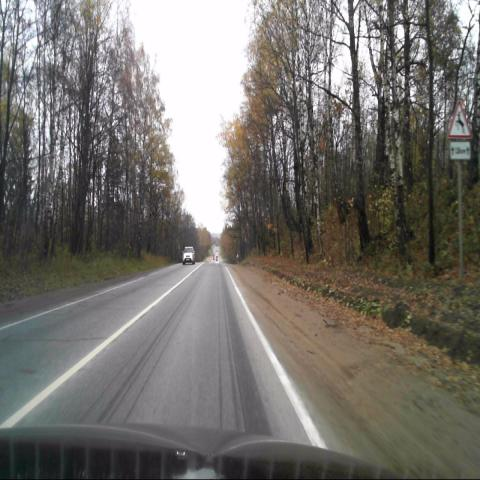1_27: (448, 98, 470, 141)
